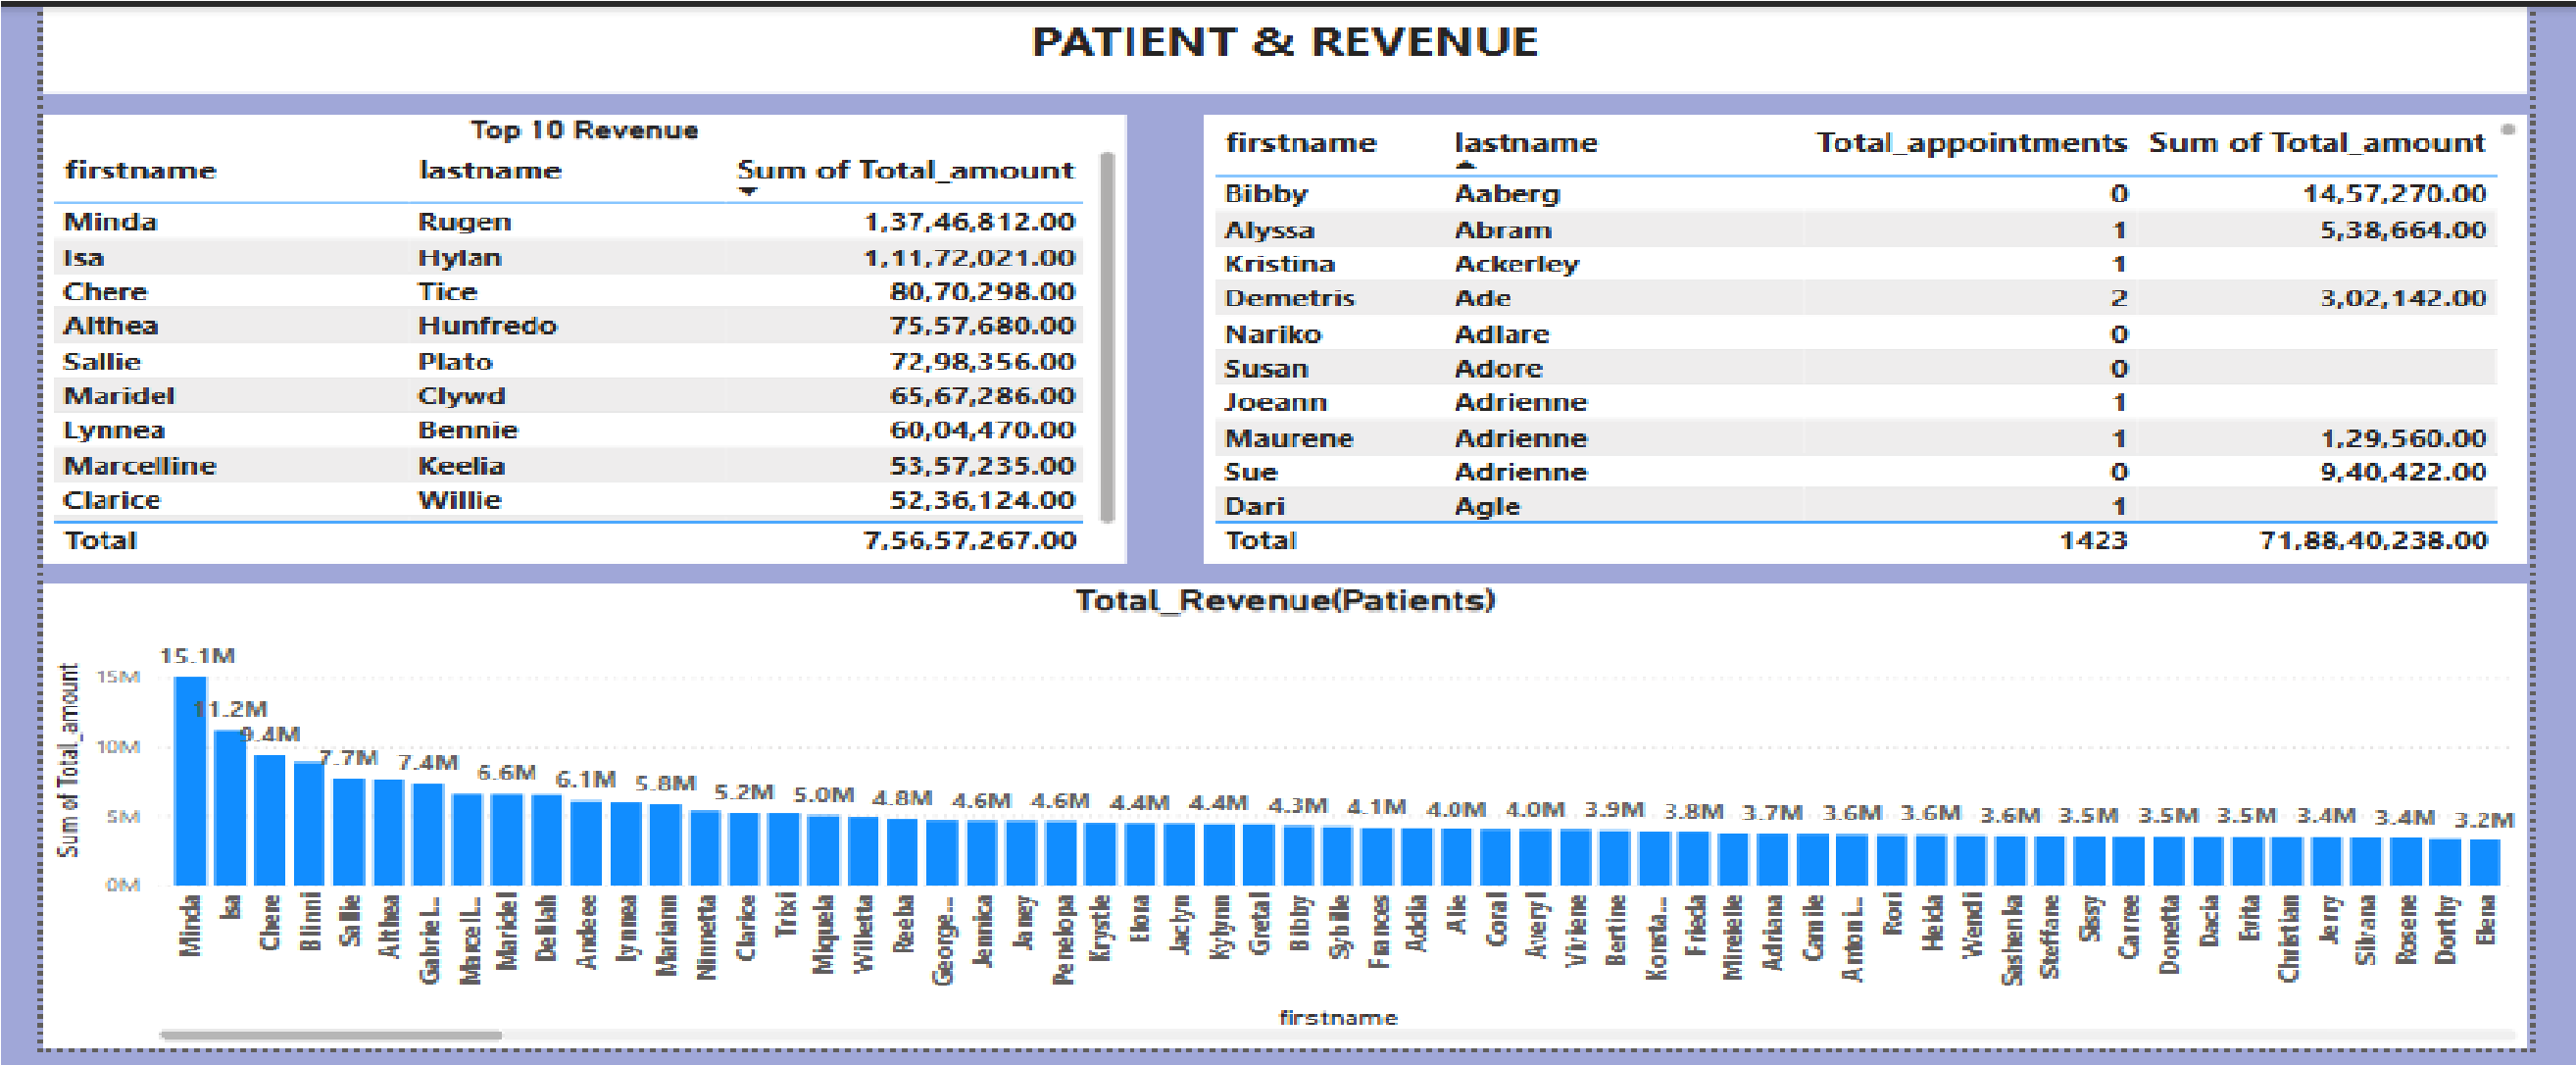

The dashboard page shown, as its layout file describes it:
{"tool":"powerbi","page":{"name":"Patient & Revenue","canvas":[1280,720],"ordinal":6},"visuals":[{"type":"textbox","box":[0,0,1279.8,60.2],"z":0},{"type":"tableEx","title":"Top 10 Revenue","fields":{"Values":["hospital vw_patient_summary.firstname","hospital vw_patient_summary.lastname","Sum(hospital vw_patient_summary.Total_amount)"]},"box":[0,74.9,558.4,310],"z":1000},{"type":"tableEx","fields":{"Values":["hospital vw_patient_summary.firstname","hospital vw_patient_summary.lastname","Sum(hospital vw_patient_summary.Total_appointments)","Sum(hospital vw_patient_summary.Total_amount)"]},"box":[598,74.9,681.8,310],"z":2000},{"type":"clusteredColumnChart","title":"Total_Revenue(Patients)","fields":{"Category":["hospital vw_patient_summary.firstname"],"Y":["Sum(hospital vw_patient_summary.Total_amount)"]},"box":[0,398.2,1279.8,321.8],"z":3000}]}

Visuals, with their boxes on the page's 1280x720 design canvas (x1, y1, x2, y2). These are canvas units, not pixel positions in the 2576x1065 screenshot, which may show the page scaled, cropped or inside an application window:
textbox: <bbox>0, 0, 1280, 60</bbox>
"Top 10 Revenue" tableEx: <bbox>0, 75, 558, 385</bbox>
tableEx - hospital vw_patient_summary.firstname x hospital vw_patient_summary.lastname: <bbox>598, 75, 1280, 385</bbox>
"Total_Revenue(Patients)" clusteredColumnChart: <bbox>0, 398, 1280, 720</bbox>
